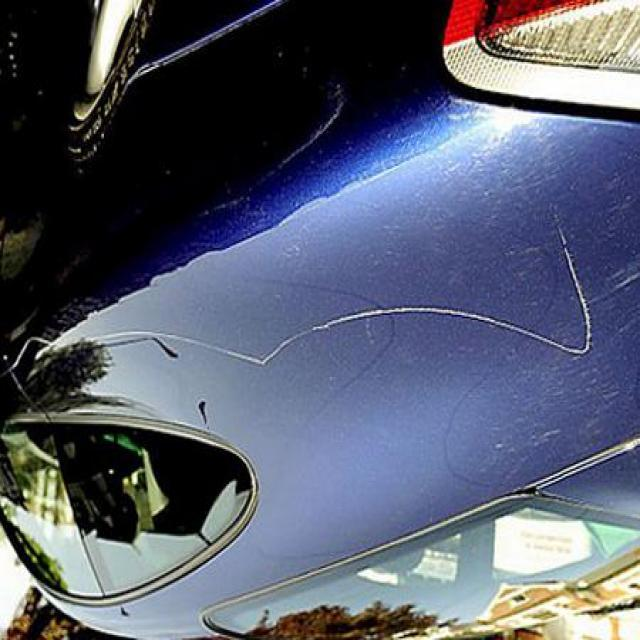scratch: (178, 201, 606, 390)
